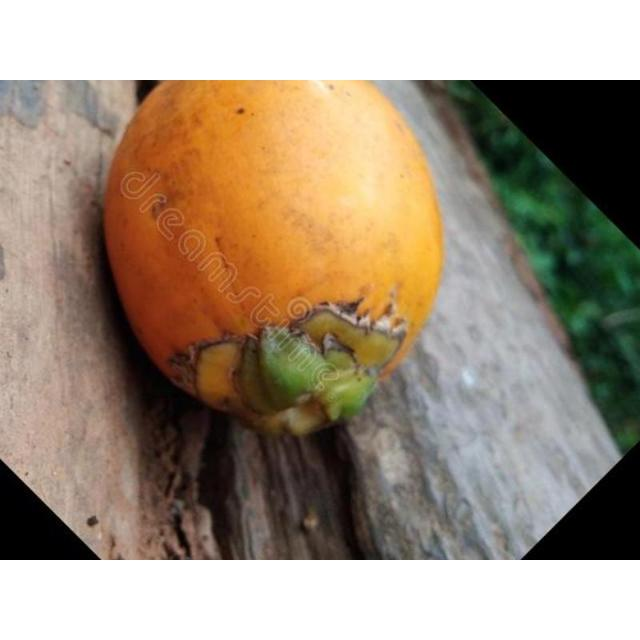good: (102, 80, 446, 439)
